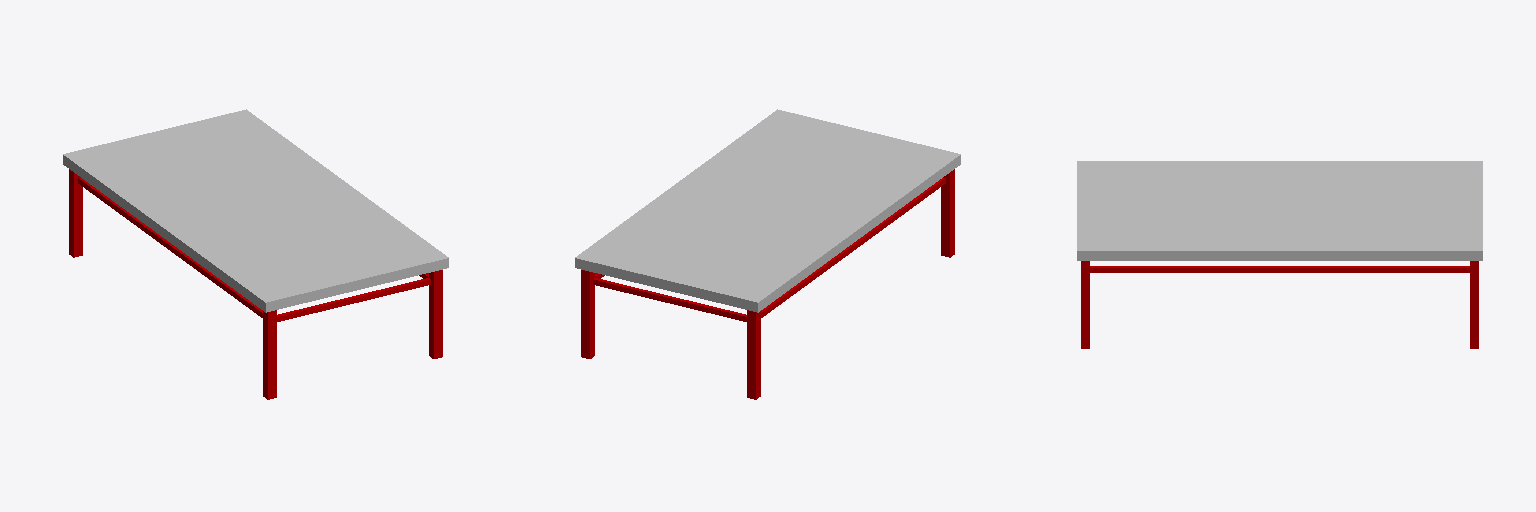
File: Meson.obj
3 renders of one model, left to right at view 1: azimuth 30°, elevation 25°; view 2: azimuth 150°, elevation 25°; view 3: azimuth 270°, elevation 25°, orthographic.
Parts seen in each view (by area): view 1: Plane.004; view 2: Plane.004; view 3: Plane.004.
Boxes of the visible parts, x1=… form: Plane.004: x1=63, y1=109, x2=448, y2=399; Plane.004: x1=575, y1=109, x2=960, y2=399; Plane.004: x1=1077, y1=161, x2=1482, y2=348.
Bounding box in the file's own units: 1.92 × 1 × 3.68.